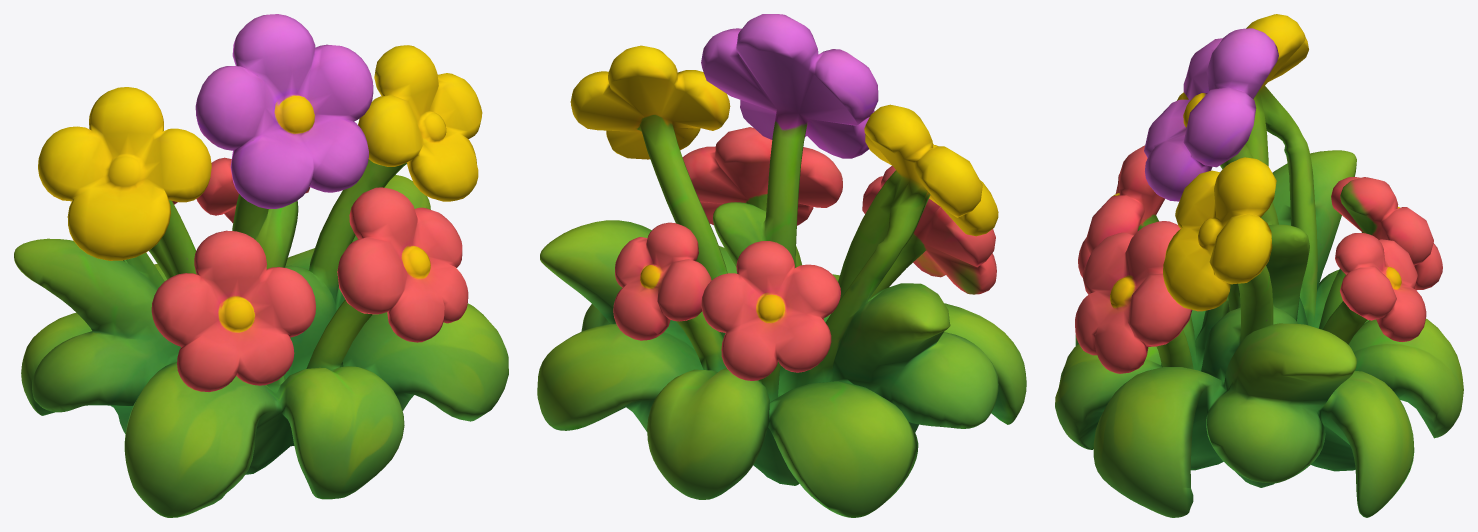
The model's file is wildflower-clump.glb.
3 renders of one model, left to right at view 1: azimuth 30°, elevation 25°; view 2: azimuth 150°, elevation 25°; view 3: azimuth 270°, elevation 25°, orthographic.
Parts seen in each view (by area): view 1: c63278a0_b663_4b94_8864_7f0406b8e691; view 2: c63278a0_b663_4b94_8864_7f0406b8e691; view 3: c63278a0_b663_4b94_8864_7f0406b8e691.
Part boxes in pixels (x1=…): c63278a0_b663_4b94_8864_7f0406b8e691: x1=14, y1=14, x2=508, y2=517; c63278a0_b663_4b94_8864_7f0406b8e691: x1=537, y1=14, x2=1026, y2=517; c63278a0_b663_4b94_8864_7f0406b8e691: x1=1055, y1=14, x2=1463, y2=517.
Bounding box in the file's own units: 0.9995 × 0.938 × 0.8296.
1 material, 1 textured.
